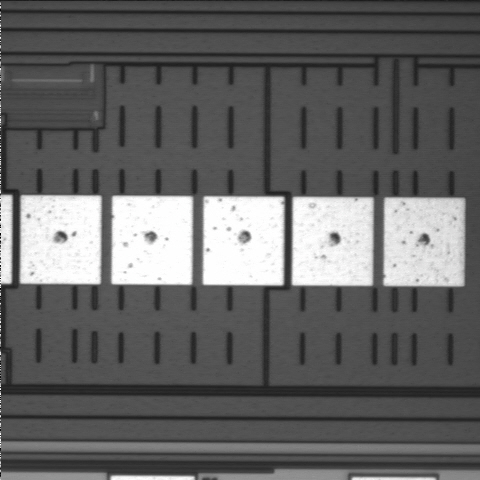pad: (111, 196, 193, 285), (20, 195, 101, 284), (203, 196, 284, 285), (292, 197, 373, 286), (383, 198, 464, 286)
